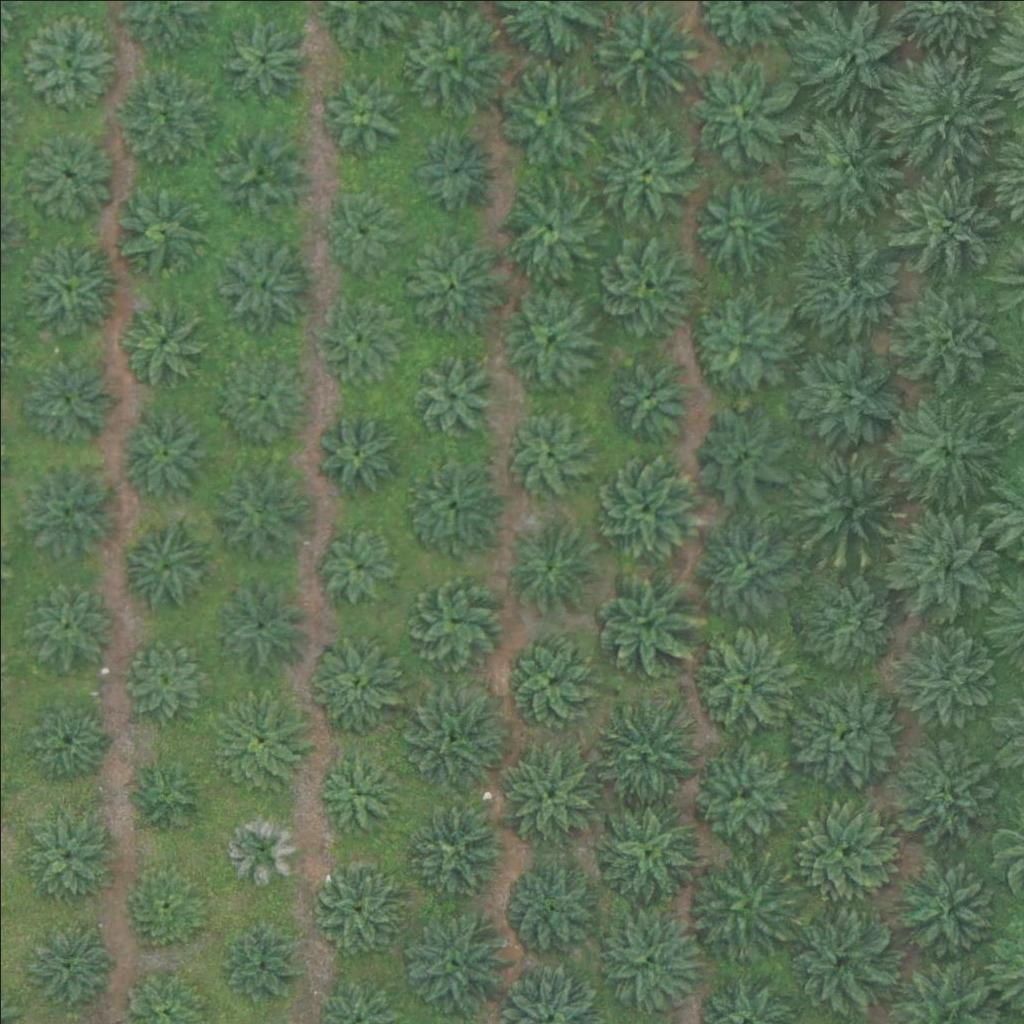Kelapa_Sawit: (683, 850, 796, 964), (591, 793, 704, 907), (583, 694, 696, 808), (885, 620, 998, 733), (396, 904, 509, 1017), (589, 563, 702, 676), (587, 453, 700, 566), (788, 340, 901, 453), (792, 230, 905, 343), (883, 506, 996, 619), (892, 393, 1005, 506), (886, 276, 999, 389), (884, 58, 997, 171), (787, 110, 900, 223), (594, 900, 706, 1014), (397, 678, 509, 792), (887, 164, 999, 278), (885, 849, 997, 962), (781, 900, 893, 1013), (782, 676, 894, 789), (791, 560, 903, 673), (792, 445, 904, 558), (684, 56, 796, 169), (589, 117, 701, 230), (889, 737, 989, 838), (791, 801, 891, 902), (689, 744, 789, 845), (403, 800, 503, 901), (205, 691, 305, 792), (22, 457, 122, 558), (117, 626, 217, 727), (117, 516, 217, 617), (211, 576, 311, 677), (398, 235, 498, 336), (500, 516, 600, 617), (499, 288, 599, 389), (499, 171, 599, 272), (595, 234, 695, 335), (696, 629, 796, 730), (699, 517, 799, 618), (690, 401, 790, 502), (689, 291, 789, 392), (692, 177, 792, 278), (208, 123, 308, 224), (113, 70, 213, 171), (17, 10, 117, 111), (499, 857, 599, 957), (497, 740, 597, 840), (19, 238, 119, 338), (113, 181, 213, 281), (208, 461, 308, 561), (213, 234, 313, 334), (303, 633, 403, 733), (404, 571, 504, 671), (400, 455, 500, 555), (500, 630, 600, 730), (498, 68, 598, 168), (400, 8, 500, 108), (121, 858, 209, 947), (19, 691, 107, 780), (23, 126, 111, 215), (120, 752, 208, 840), (24, 578, 112, 666), (25, 353, 113, 441), (312, 516, 400, 604), (603, 352, 691, 440), (218, 13, 306, 101), (312, 859, 399, 947), (24, 916, 111, 1004), (23, 806, 110, 894), (121, 405, 208, 493), (118, 294, 205, 382), (218, 345, 305, 433), (406, 353, 493, 441), (504, 409, 591, 497), (318, 754, 393, 830), (316, 411, 391, 487), (318, 300, 393, 376), (415, 130, 490, 206), (321, 77, 396, 153), (224, 922, 299, 997), (222, 808, 297, 883), (326, 186, 401, 261)
